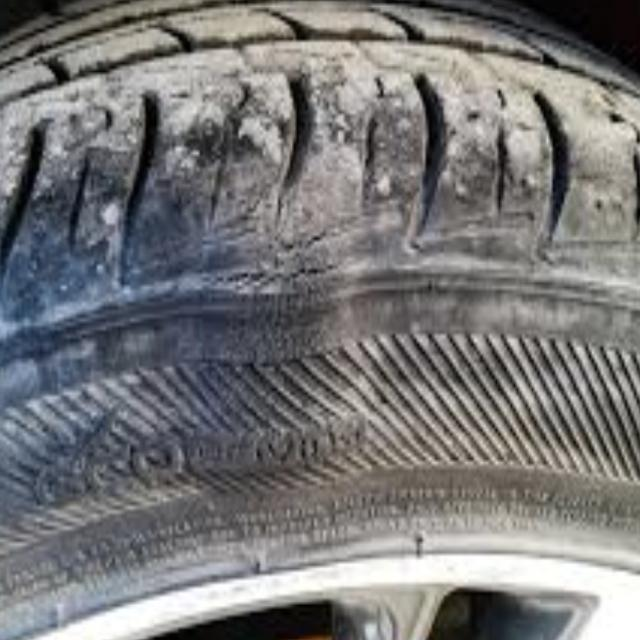Bulge: (170, 127, 386, 530)
